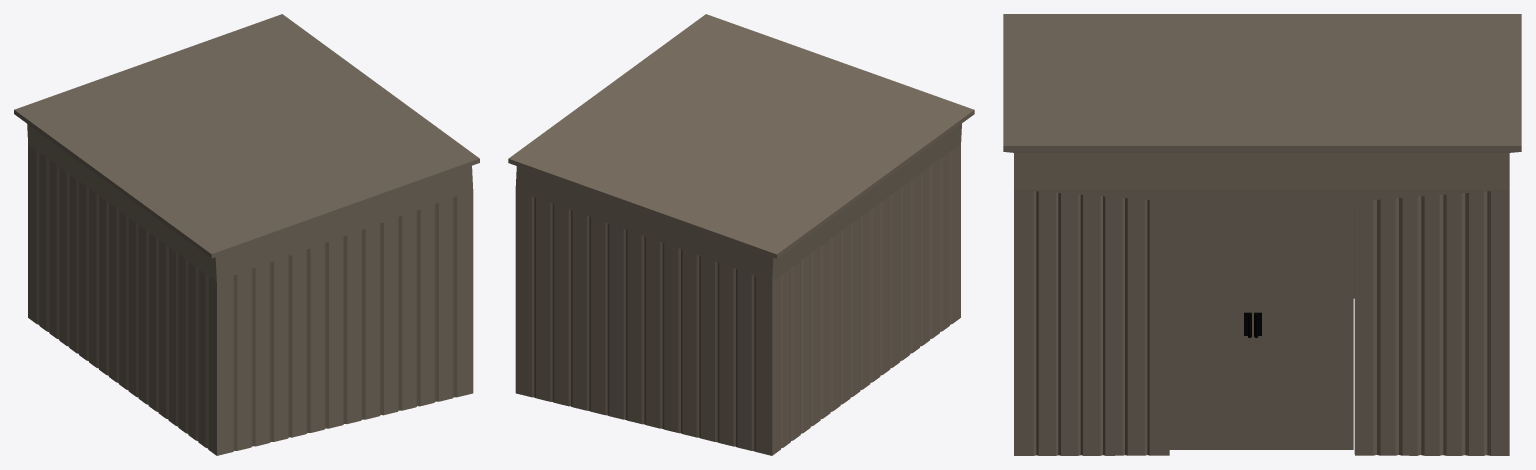
The model's file is abri_jardin.fbx.
The picture shows the model from 3 angles, left to right: view 1: azimuth 30°, elevation 25°; view 2: azimuth 150°, elevation 25°; view 3: azimuth 270°, elevation 25°; orthographic projection. The views are drawn at different scales.
Parts seen in each view (by area): view 1: Cube.006; view 2: Cube.006; view 3: Cube.006, Plane.066, Plane.078.
Part boxes in pixels (x1,y1,x2,y2): Cube.006: (14,14,479,455); Cube.006: (508,14,974,455); Cube.006: (1003,14,1521,455); Plane.066: (1252,201,1353,449); Plane.078: (1169,201,1253,449).
Size of the model in its own units: 965 by 818 by 1231.
